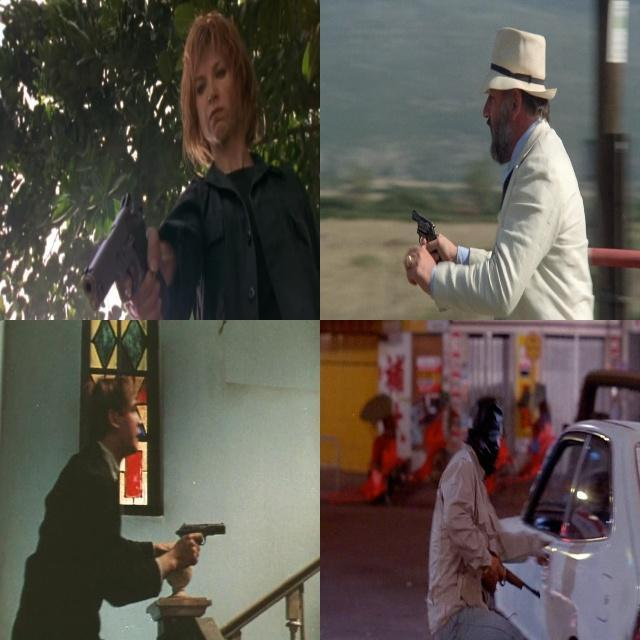gun-knife-thesis - v11 Yolov5 augmented: (78, 184, 174, 319), (478, 543, 541, 603), (170, 517, 226, 570), (409, 209, 443, 265)
